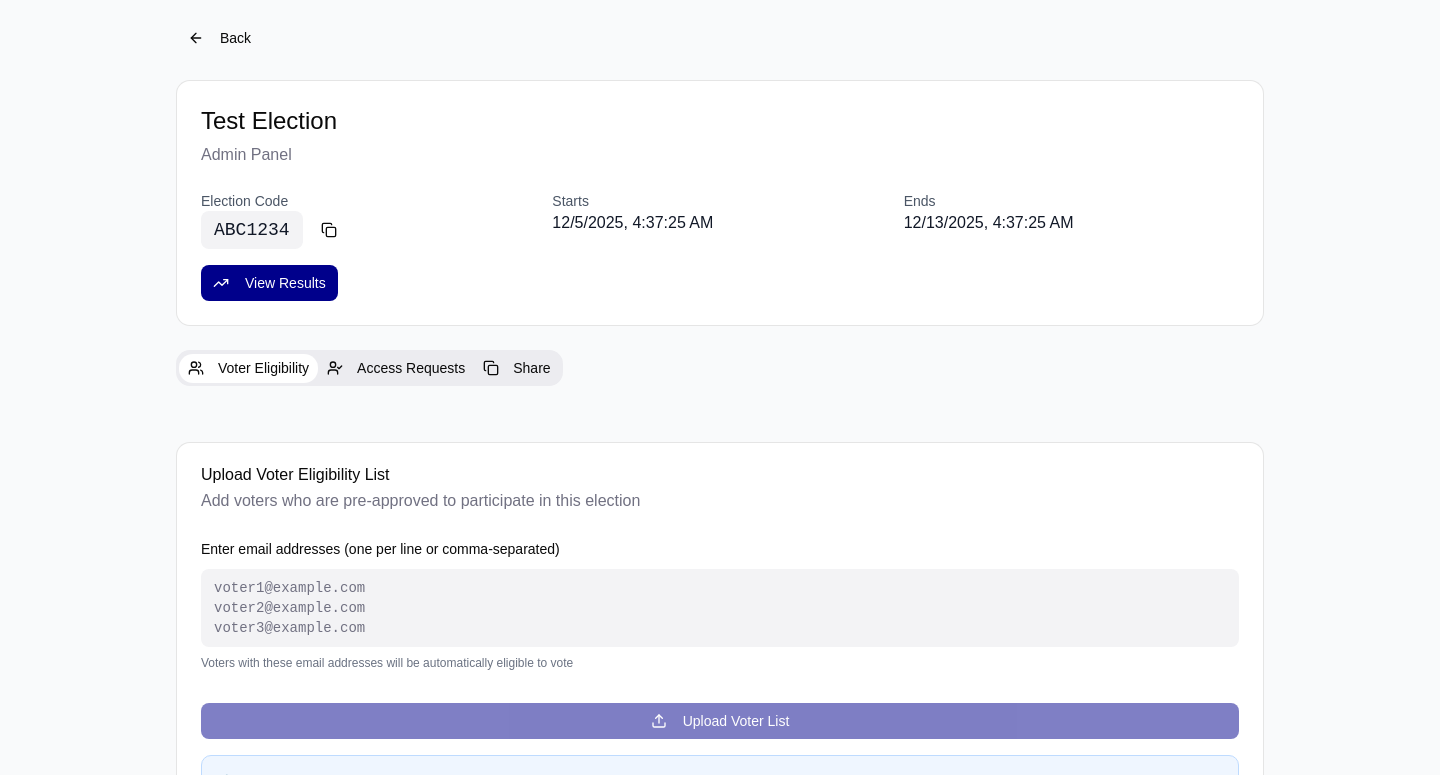
Scenario: AdminPanel - handleUploadVoters › Loading state management › should set uploading state during async operation
The width and height of the screenshot is (1440, 775).
Expected: the heading "Test Election" is shown, x1=201 y1=107 x2=337 y2=134
In the text box with placeholder "voter1@example.com voter2@example.com voter3@example.com": {"x": 720, "y": 608} x1=201 y1=569 x2=1239 y2=647, type "valid@example.com"
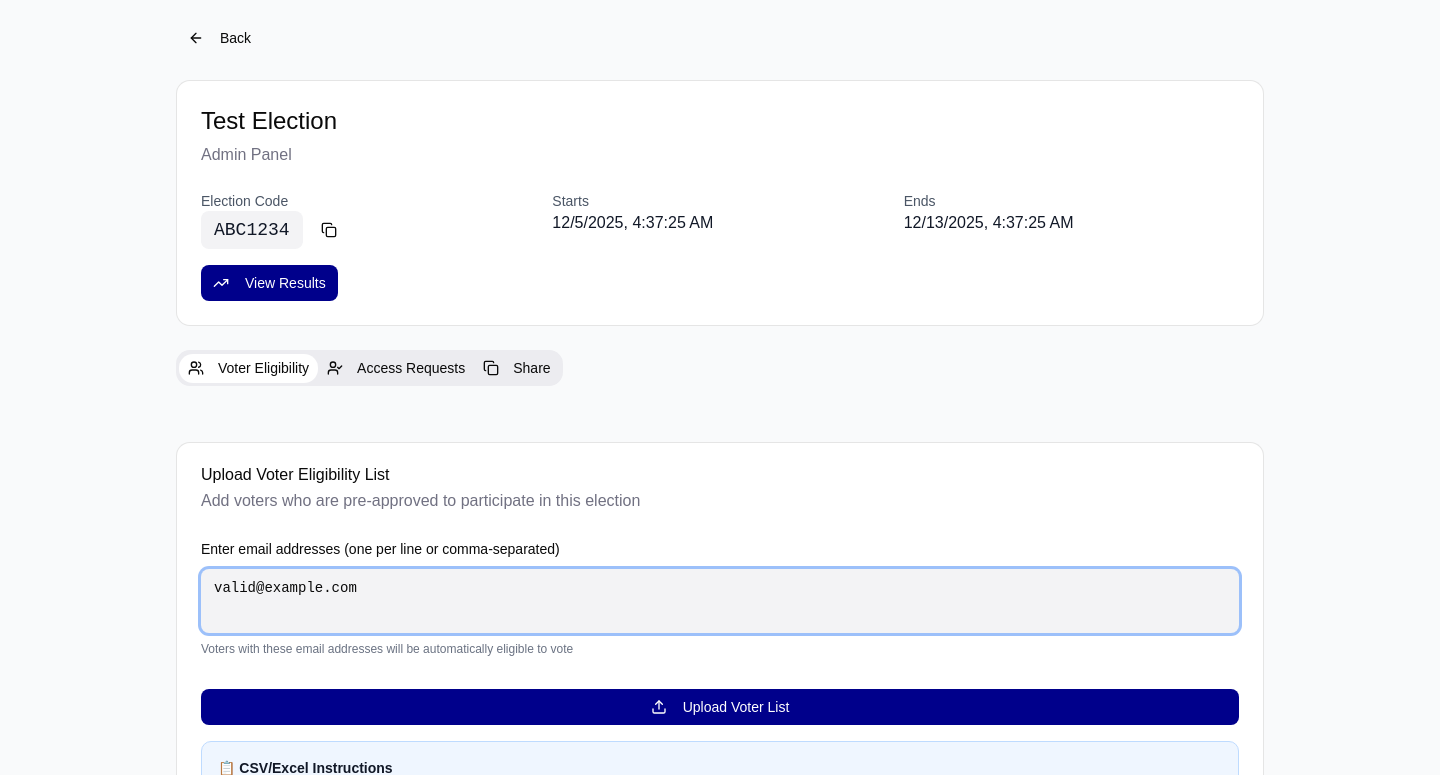
Click the button "Upload Voter List": {"x": 720, "y": 707} x1=201 y1=689 x2=1239 y2=725
(page scrolled)
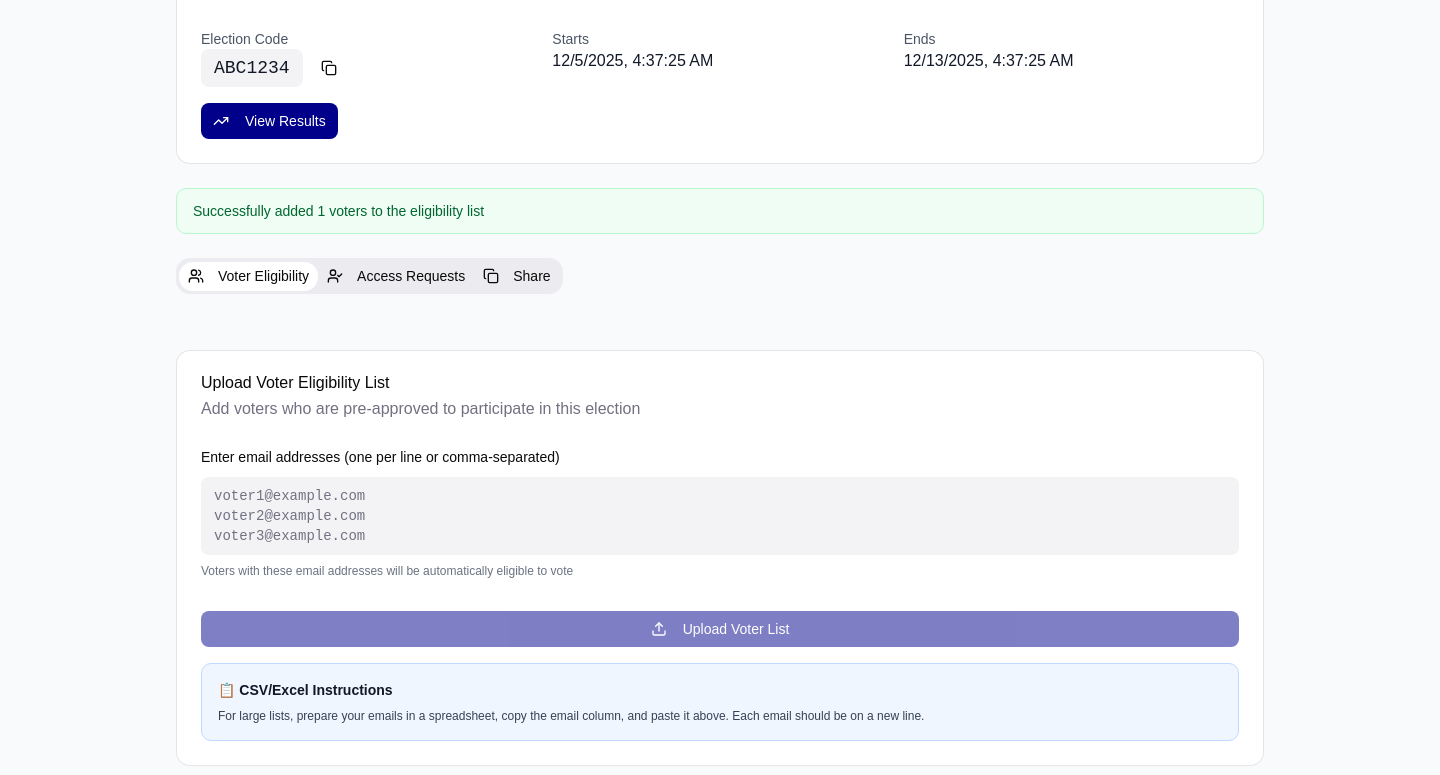
Expected: the button "uploading" is disabled, x1=201 y1=611 x2=1239 y2=647
